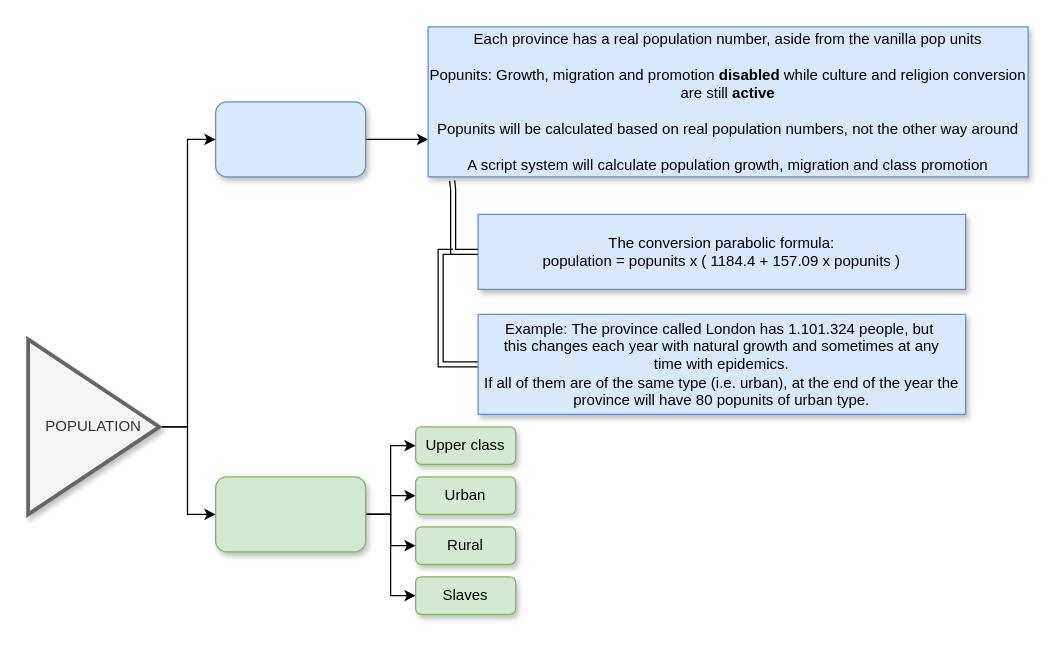
Some shapes in this 1058 by 645 pixel diagram are drawn without their labels. Each missing label, with the centre of its shape:
Calculation: pixel 291 141
Pop types: pixel 291 516
